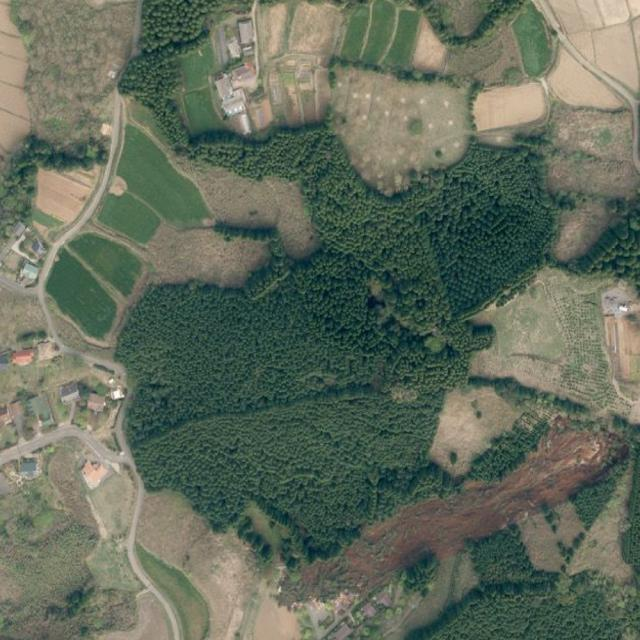landslide: (345, 421, 625, 586)
